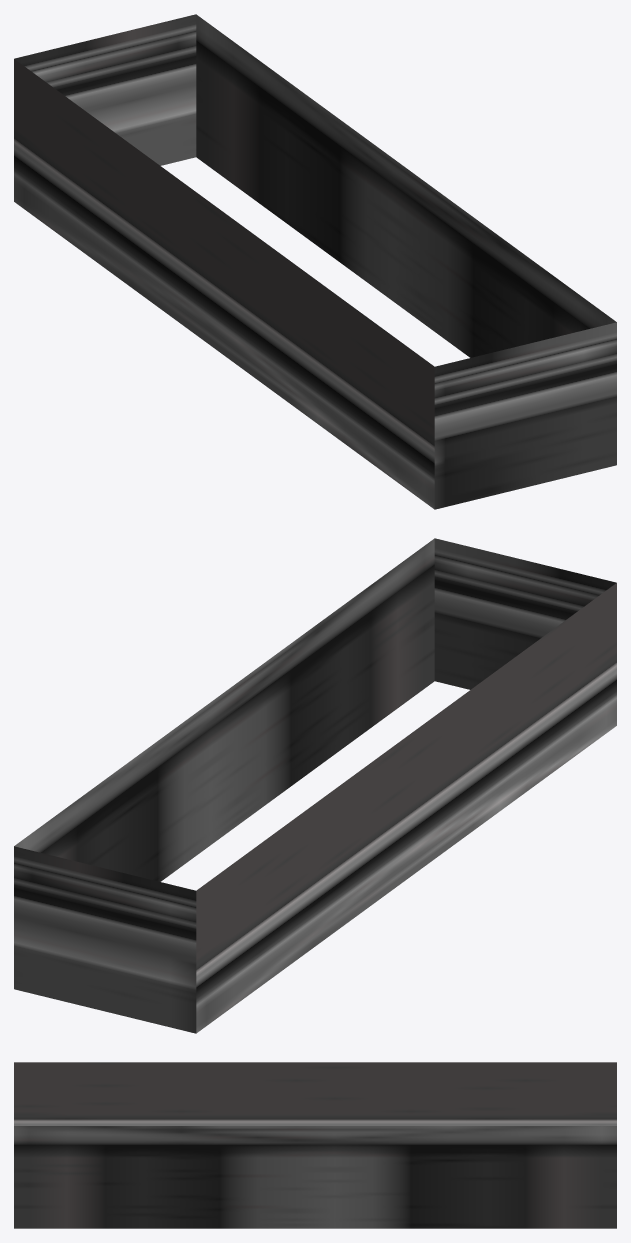
File: GOYPIL02.obj
3 renders of one model, top to bottom at view 1: azimuth 30°, elevation 25°; view 2: azimuth 150°, elevation 25°; view 3: azimuth 270°, elevation 25°, orthographic. The views are drawn at different scales.
Visible parts, largest first — view 1: GOYPIL02.1; view 2: GOYPIL02.1; view 3: GOYPIL02.1.
Boxes of the visible parts, x1,y1,x2,y2 form: GOYPIL02.1: [14, 14, 616, 509]; GOYPIL02.1: [14, 538, 616, 1033]; GOYPIL02.1: [14, 1062, 616, 1228].
Bounding box in the file's own units: 64 × 48 × 256.
